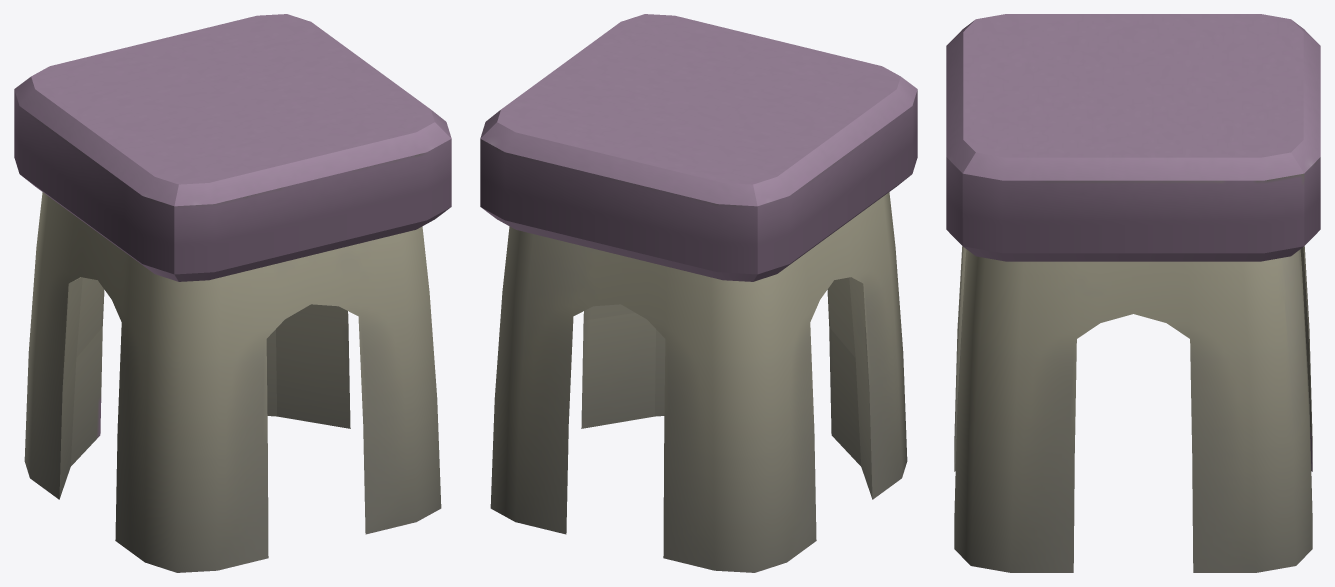
Rendered from SM_prop_Laboratory_Chair.fbx.
3 views of the same model, side by side, from view 1: azimuth 30°, elevation 25°; view 2: azimuth 150°, elevation 25°; view 3: azimuth 270°, elevation 25° (orthographic). The views are drawn at different scales.
Visible parts, largest first — view 1: SM_prop_Laboratory_Chair_low; view 2: SM_prop_Laboratory_Chair_low; view 3: SM_prop_Laboratory_Chair_low.
Boxes of the visible parts, <box> form: SM_prop_Laboratory_Chair_low: <box>14,14,451,572</box>; SM_prop_Laboratory_Chair_low: <box>480,14,917,572</box>; SM_prop_Laboratory_Chair_low: <box>946,14,1320,572</box>.
Size of the model in its own units: 33 by 40 by 33.
Materials: 1 (1 with a texture image).
